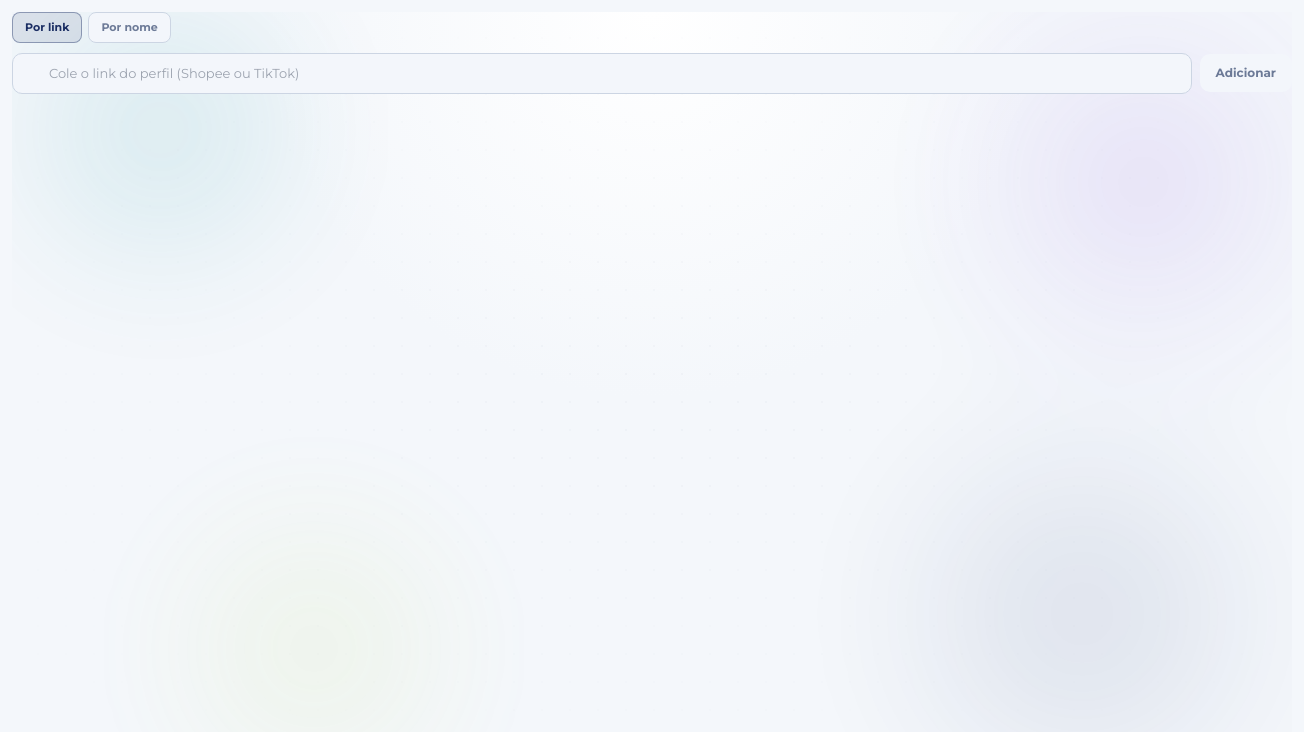
Scenario: AddSellerForm › shows validation error for a URL that is not Shopee or TikTok
This screenshot has width=1304, height=732.
Type "https://amazon.com.br/vendedor" into the field with placeholder "Cole o link do perfil (Shopee ou TikTok)" at (602, 73), box [12,52,1192,94]
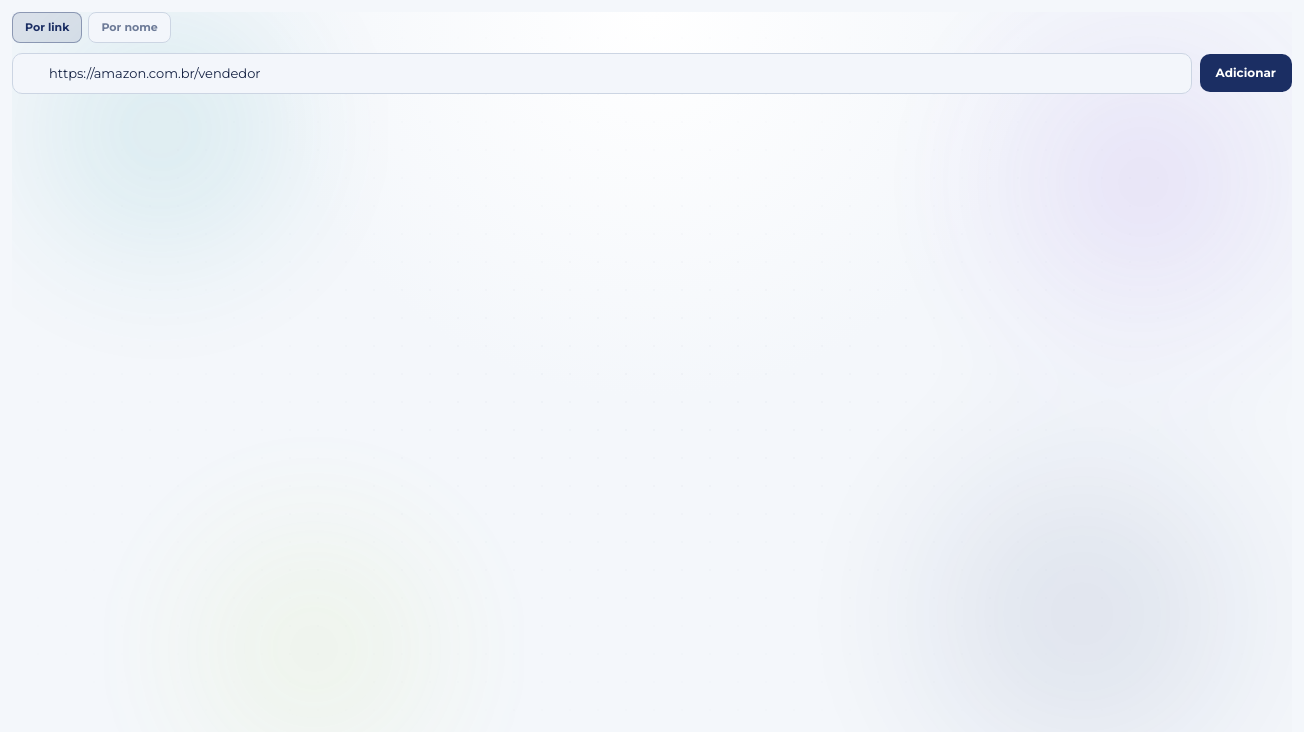
Click the button "Adicionar" at (1246, 73), box [1200,54,1292,92]
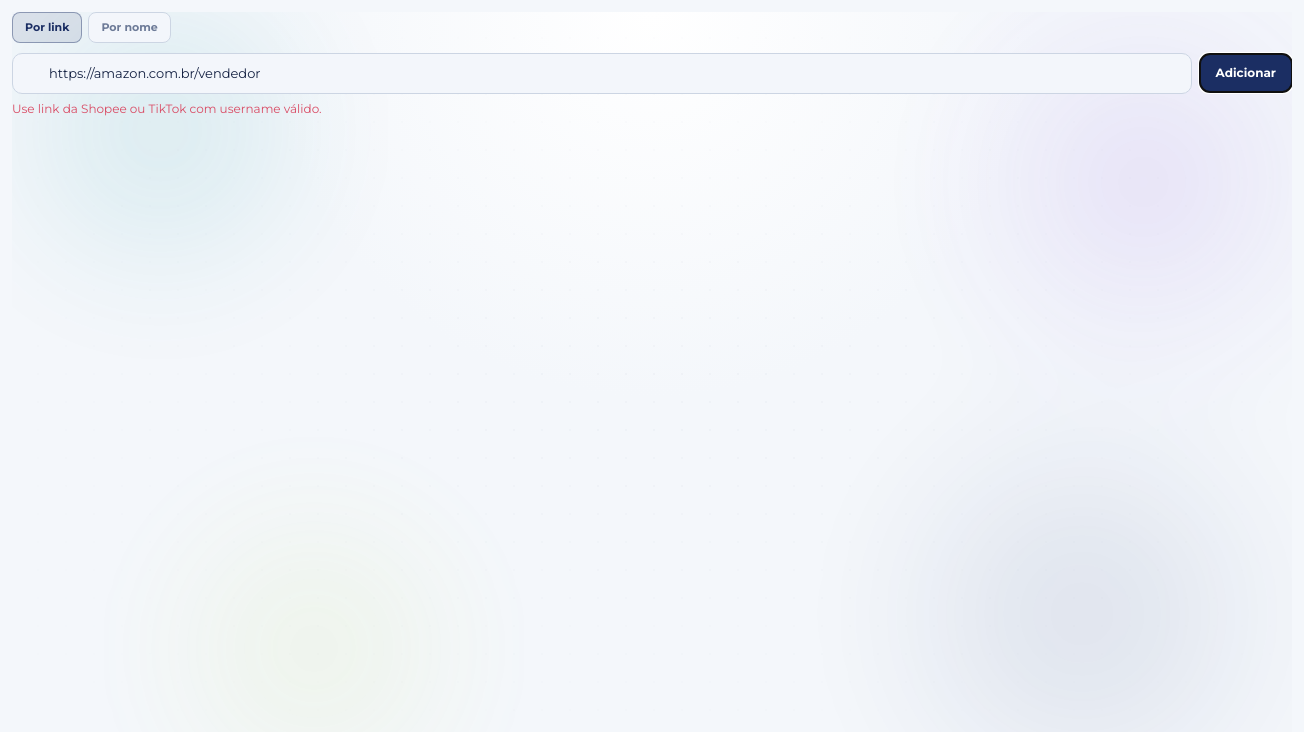
Expected: the message "Use link da Shopee ou TikTok com username válido." is shown, [12,101,322,116]
